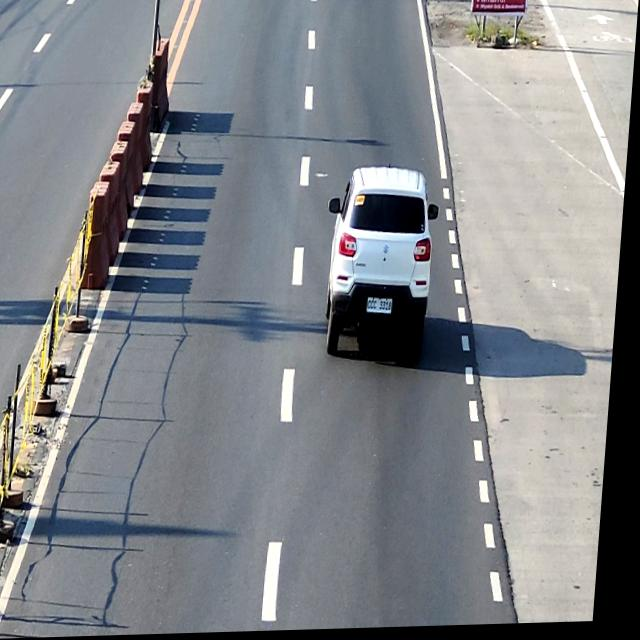Car: (321, 166, 445, 371)
License-Plate: (371, 300, 398, 316)
